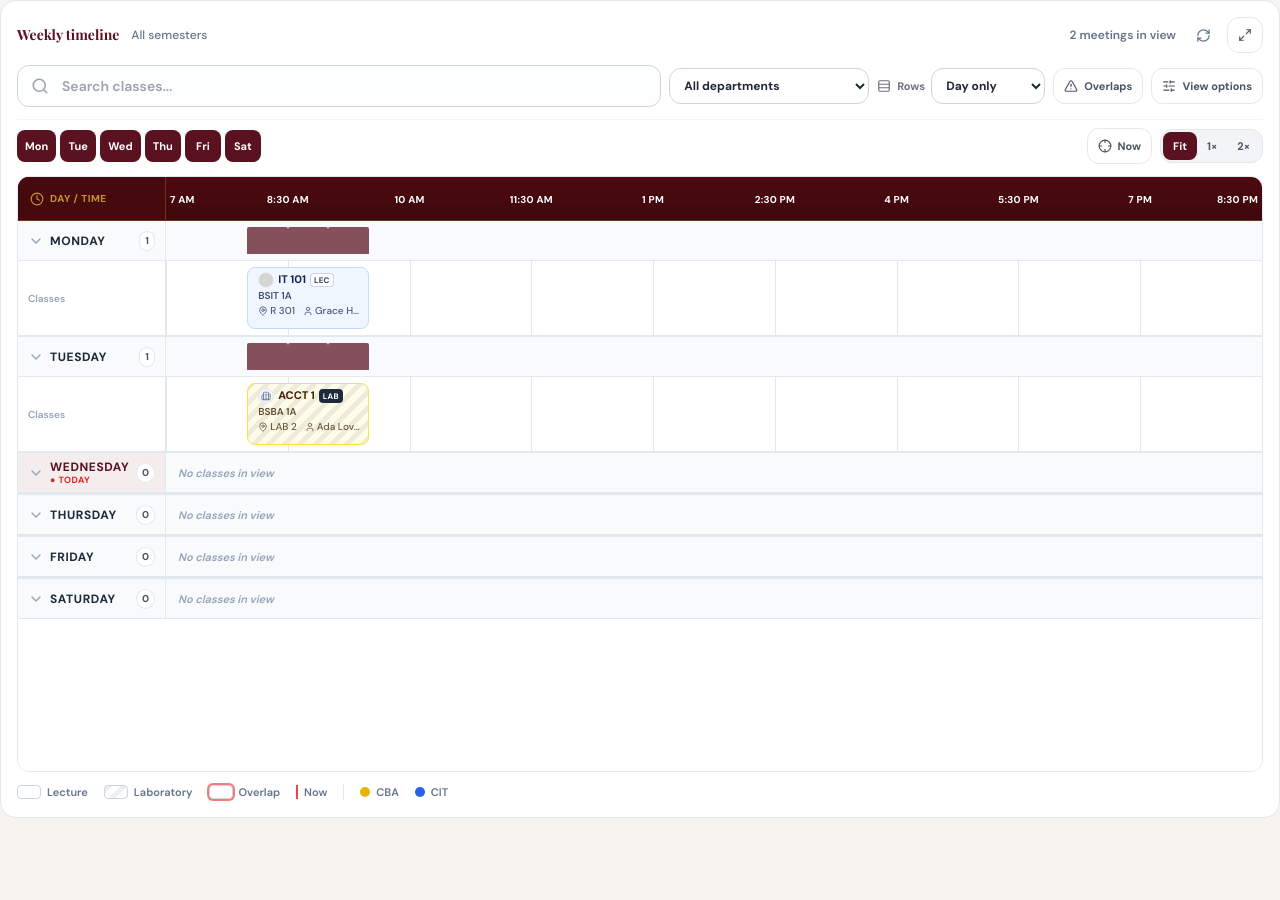
VpaaCalendarPage Gantt timeline › updates the summary and legend when days are hidden, and restores them on clear
Expected: the message reads "2 meetings in view", [1070,27,1176,43]
Click the button "Tue": (78, 146) [60,130,96,162]
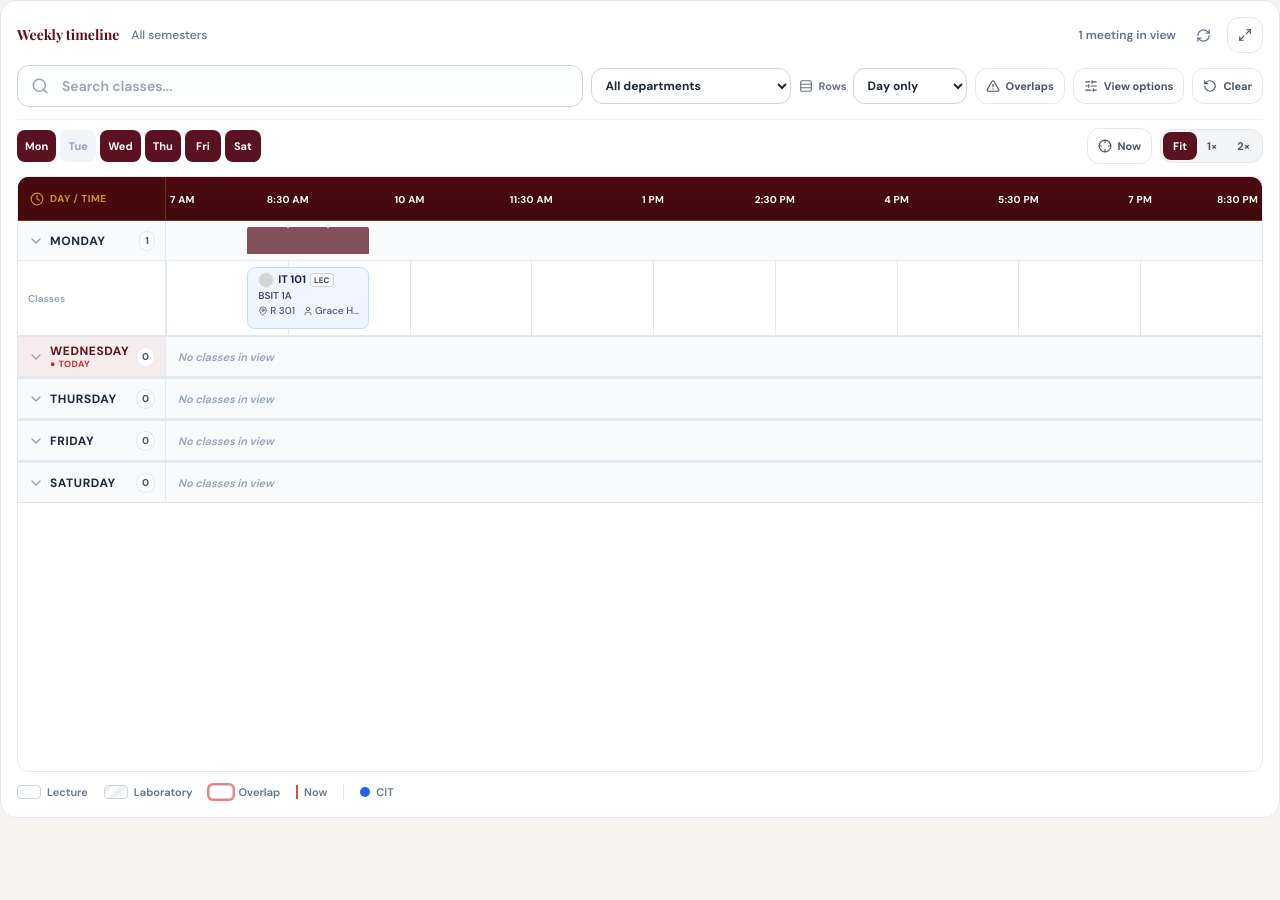
Expected: the message reads "1 meeting in view", [1079,27,1176,43]
Click the button with aria-label "Clear filters": (1228, 86) [1192,68,1263,104]
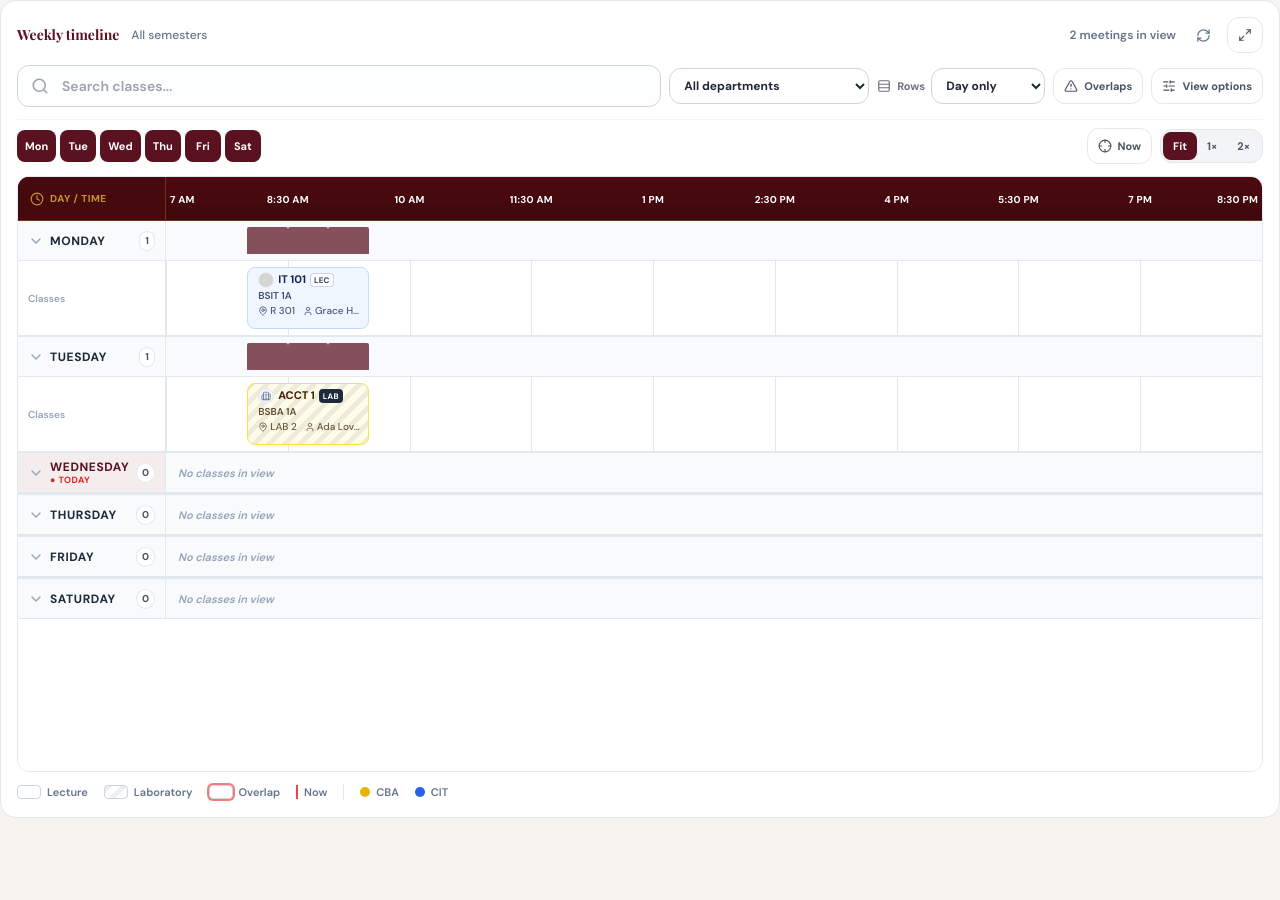
Expected: the message reads "2 meetings in view", [1070,27,1176,43]
Expected: the element titled "Business Administration" is shown, [360,784,399,800]
